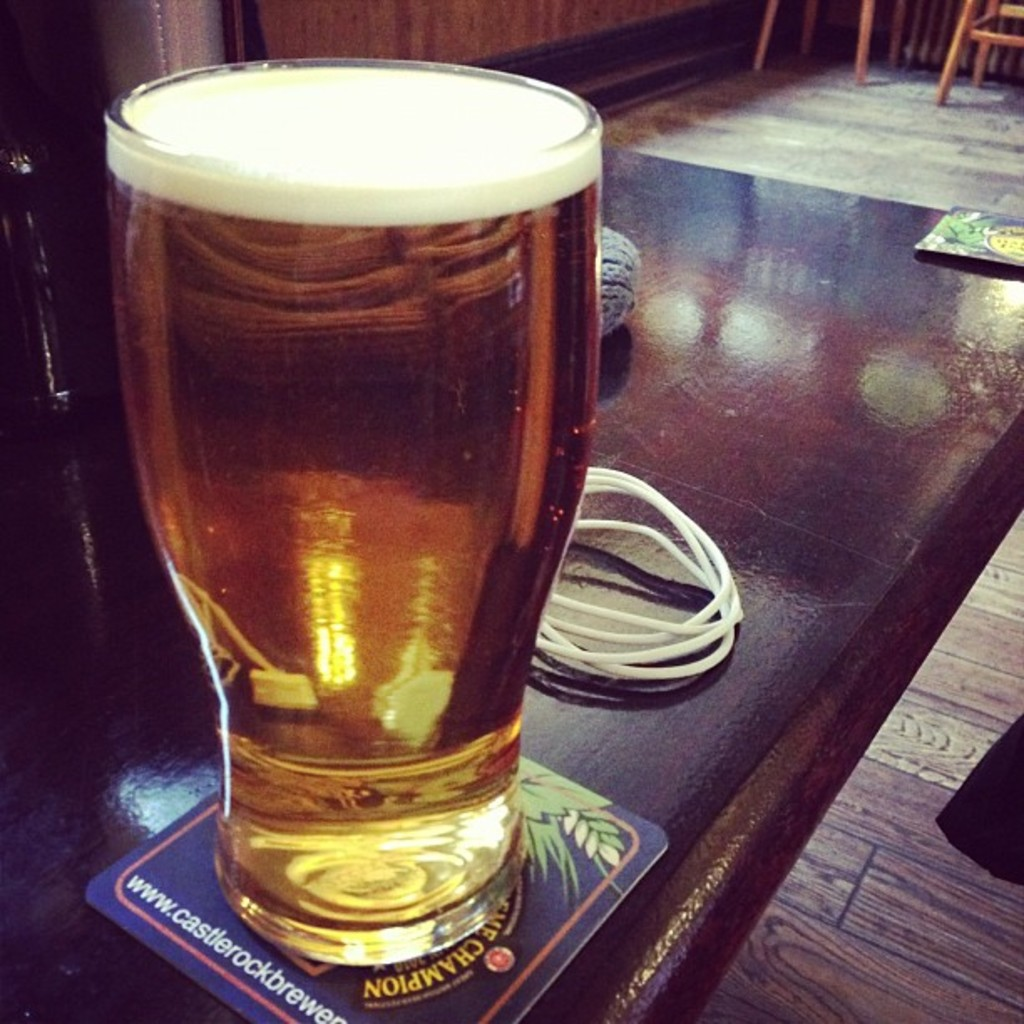Beer: (105, 66, 639, 963)
